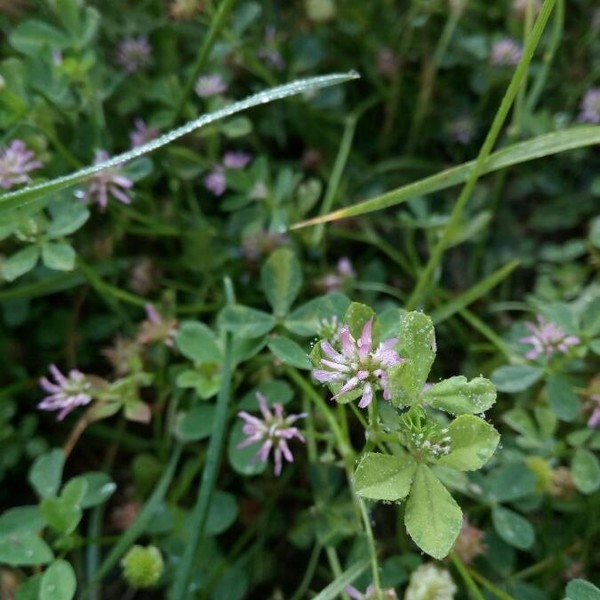obstacle: (171, 257, 477, 535)
